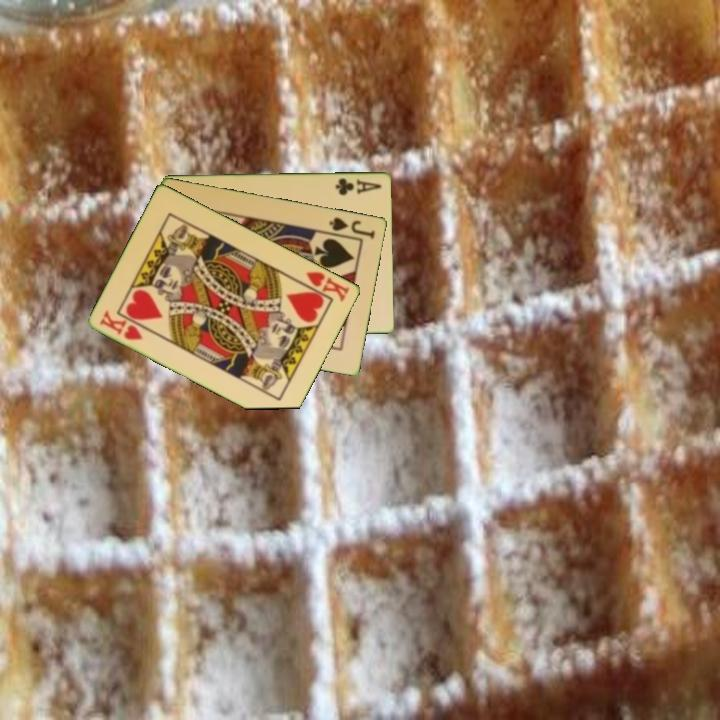Ac: (332, 174, 385, 198)
Js: (326, 213, 378, 241)
Kh: (296, 268, 353, 305), (96, 307, 146, 343)
